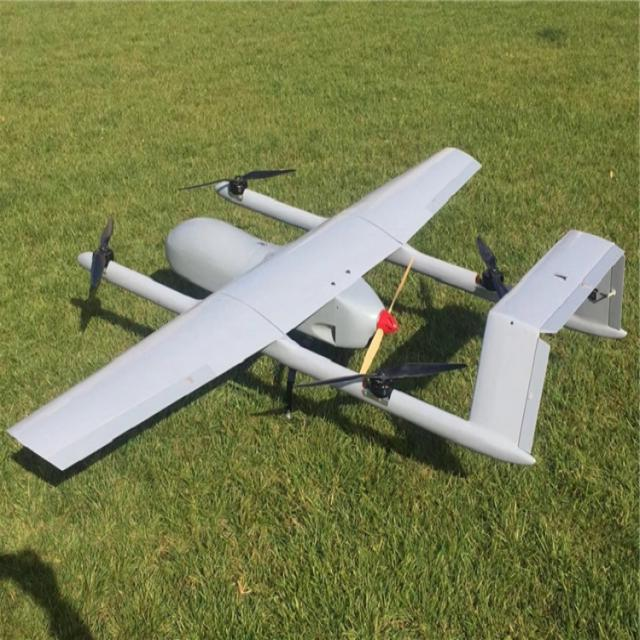iha: (6, 146, 630, 488)
